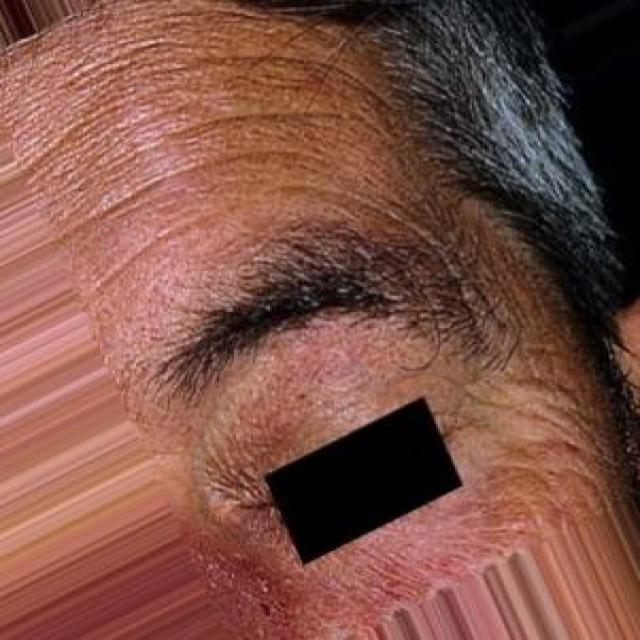Rosacea: (322, 498, 534, 631), (186, 534, 313, 640)
